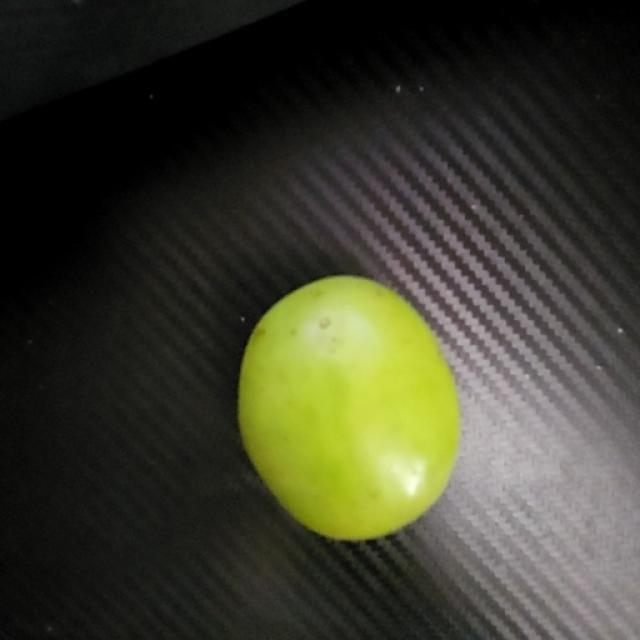Red: (235, 272, 462, 542)
